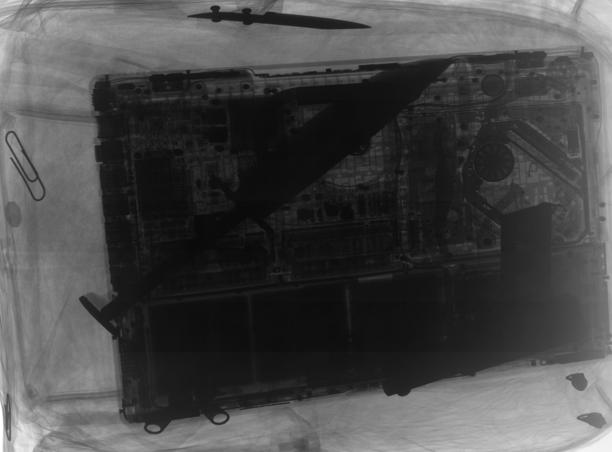Handgun: (379, 197, 584, 403)
Knife: (76, 54, 456, 341)
